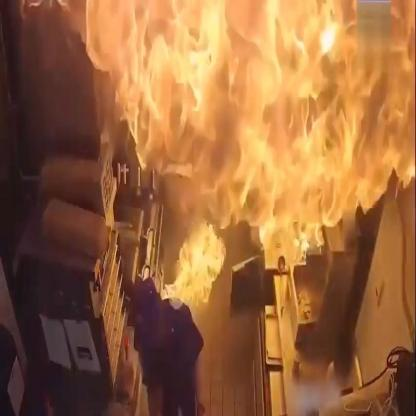fire: (69, 0, 416, 311)
